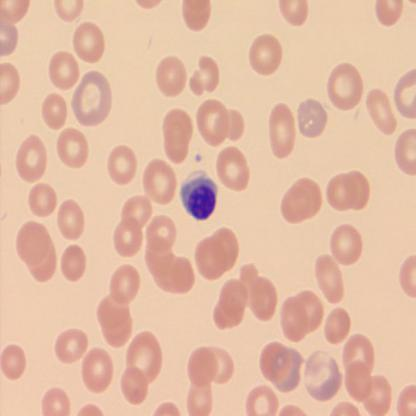NRC: (178, 171, 221, 224)
